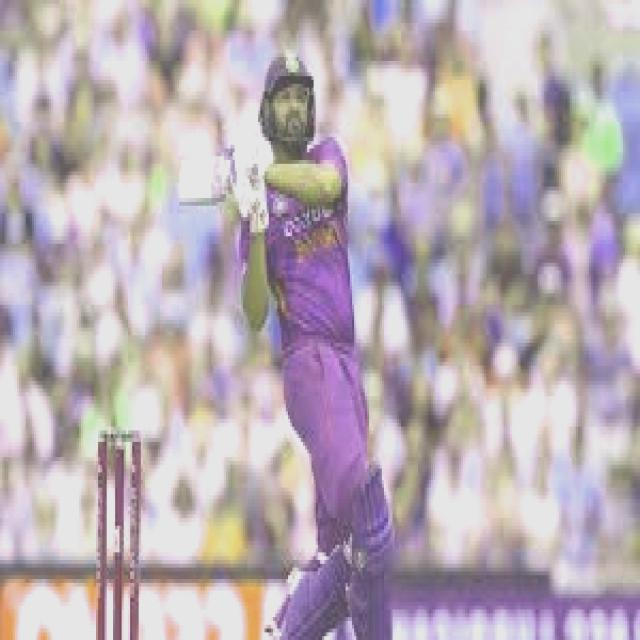toe: (177, 162, 188, 208)
